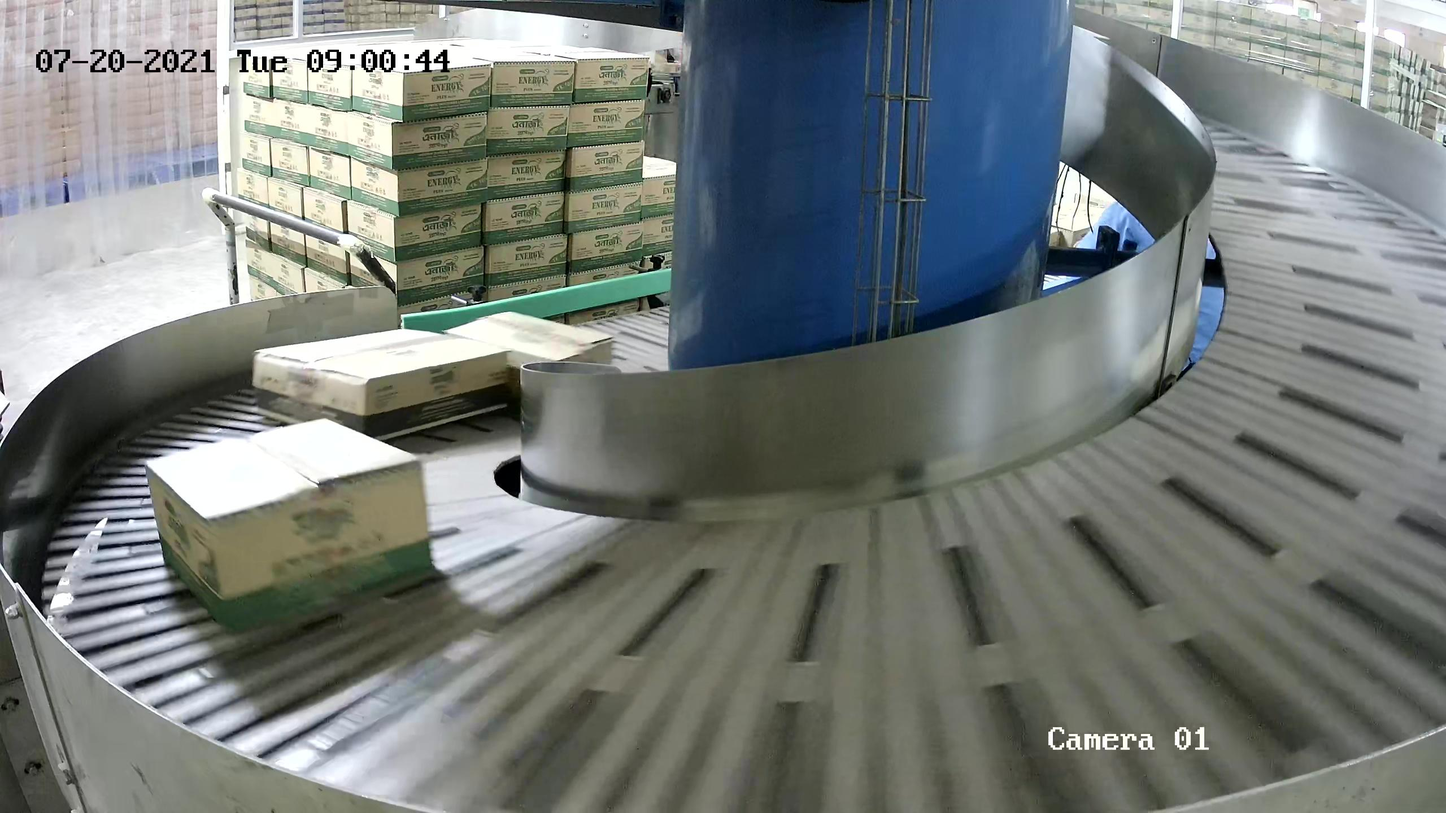Box: (144, 417, 436, 638), (252, 327, 513, 449), (444, 310, 615, 419)
